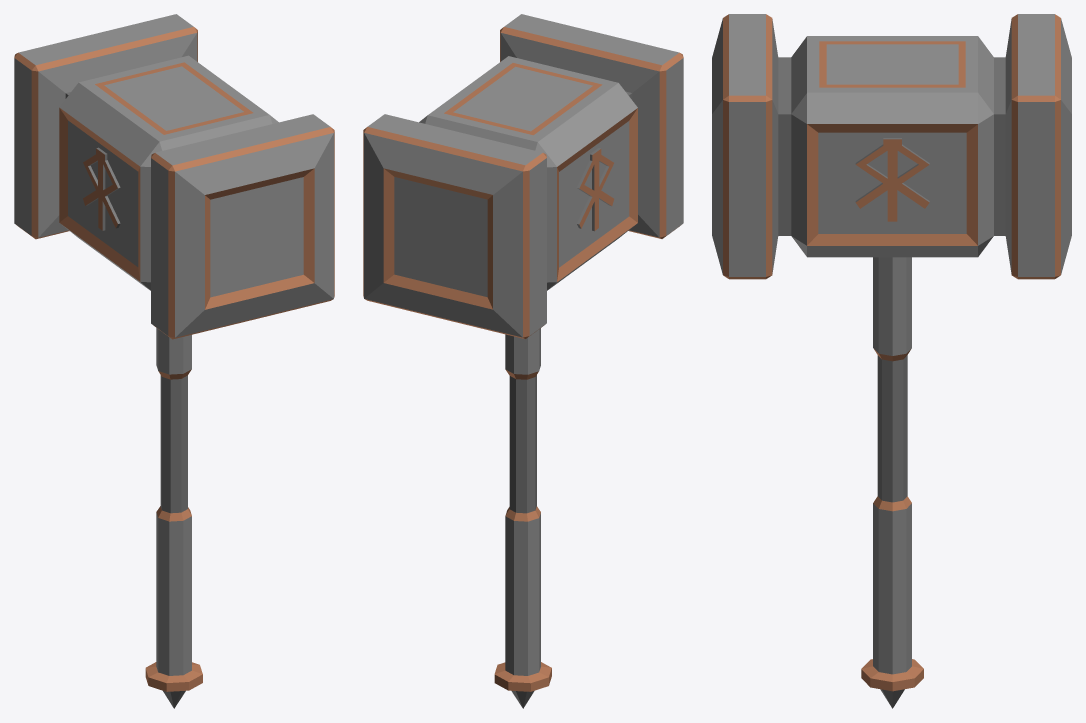
The model's file is HammerPaladin.fbx.
3 renders of one model, left to right at view 1: azimuth 30°, elevation 25°; view 2: azimuth 150°, elevation 25°; view 3: azimuth 270°, elevation 25°, orthographic. The views are drawn at different scales.
Visible parts, largest first — view 1: HammerPaladin; view 2: HammerPaladin; view 3: HammerPaladin.
Boxes of the visible parts, x1,y1,x2,y2 form: HammerPaladin: [14, 14, 334, 708]; HammerPaladin: [363, 14, 683, 708]; HammerPaladin: [712, 14, 1071, 708].
Bounding box in the file's own units: 29.46 × 105 × 52.29.
Materials: 1 (1 with a texture image).
